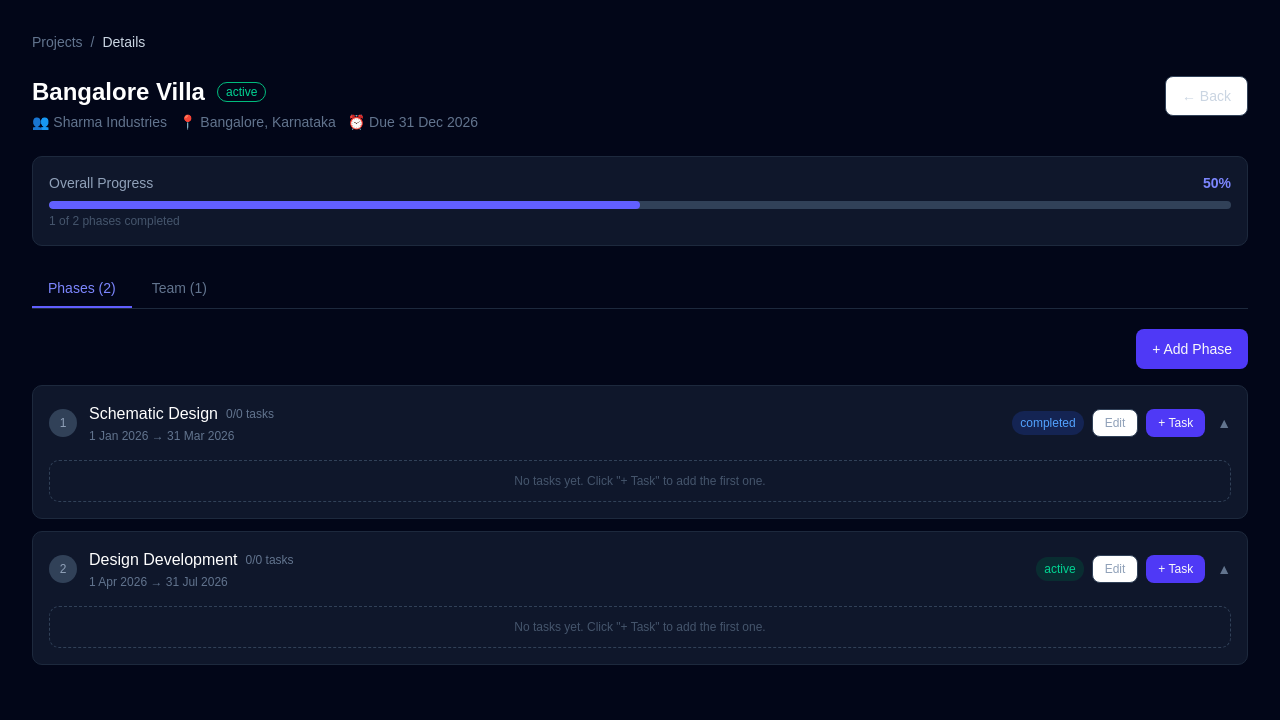
it: Add Phase button opens dialog
Click the button "+ Add Phase": (1192, 349) [1136, 329, 1248, 369]
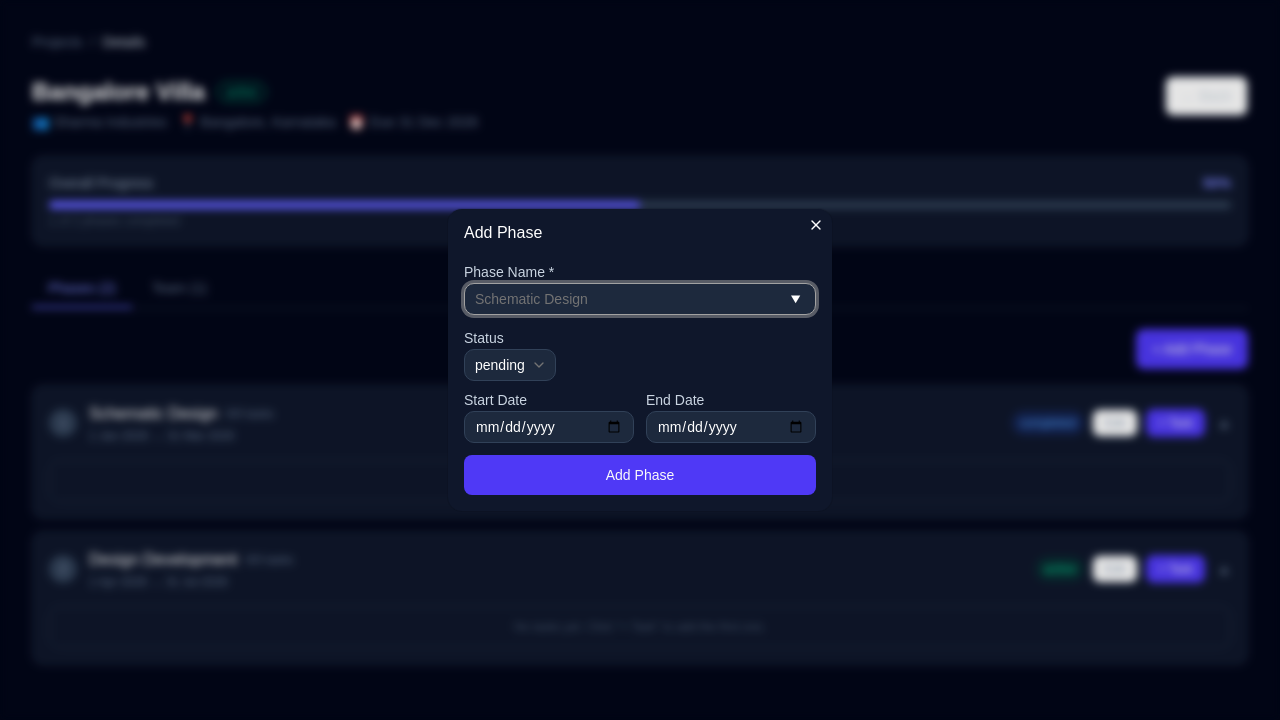
Expected: the dialog is shown, [448, 209, 832, 511]
